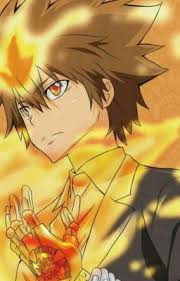Tsuna: (3, 1, 154, 166)
